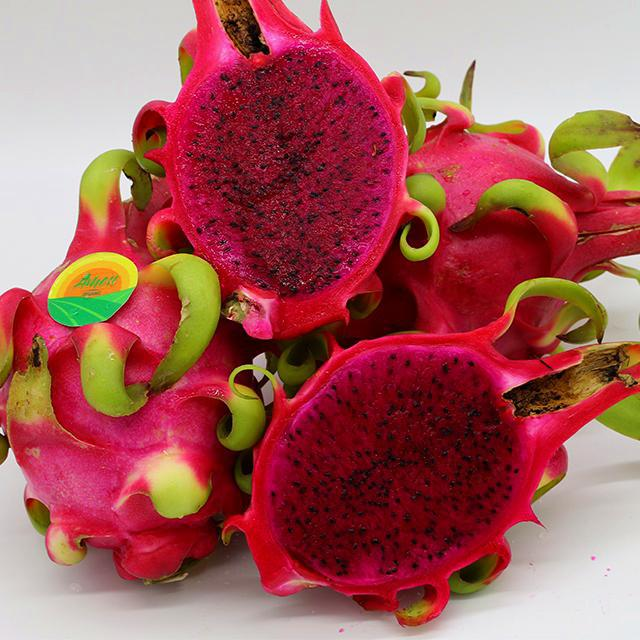do: (0, 150, 268, 594), (248, 322, 640, 598), (152, 0, 419, 328), (378, 82, 639, 338)
